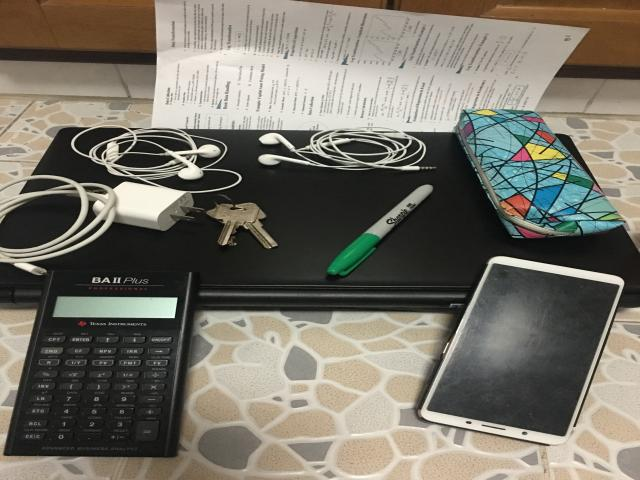Keys: (205, 202, 278, 248)
Mobile phone: (418, 256, 623, 444)
Pen: (327, 185, 433, 276)
paper: (153, 0, 587, 133)
wire: (0, 175, 203, 275), (70, 126, 242, 193), (258, 127, 435, 171)
